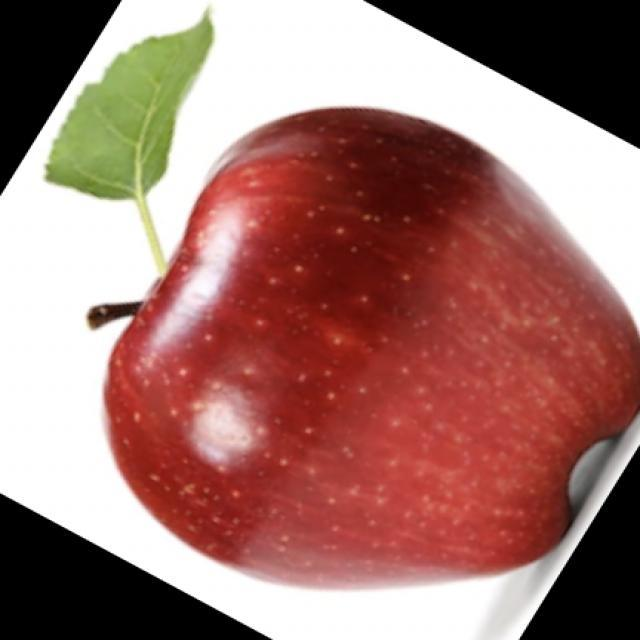Fresh Apple: (81, 96, 640, 640)
